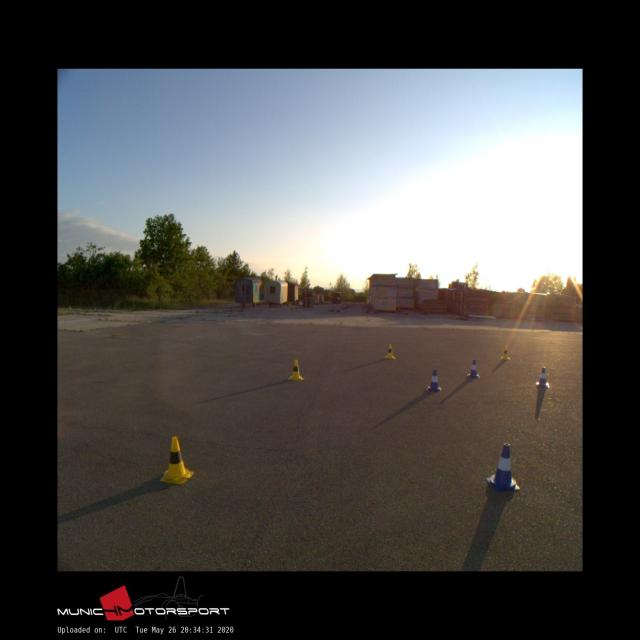blue_cone: (485, 442, 519, 490), (426, 369, 441, 391), (536, 366, 549, 387), (467, 359, 480, 378)
yellow_cone: (159, 437, 194, 484), (288, 359, 303, 380), (384, 344, 394, 358), (501, 345, 510, 359)
